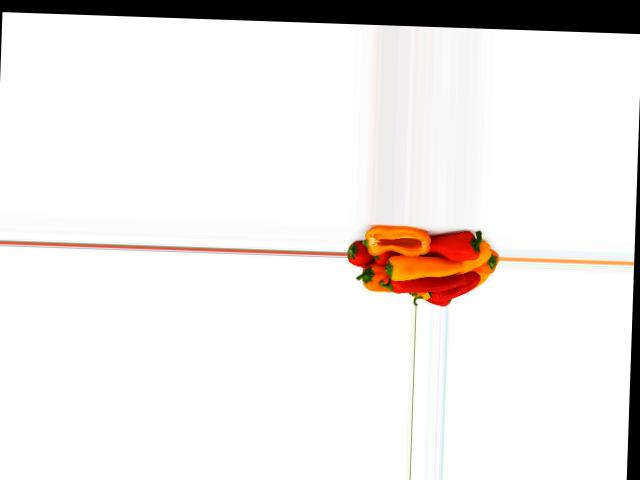bell_pepper: (346, 241, 390, 272)
